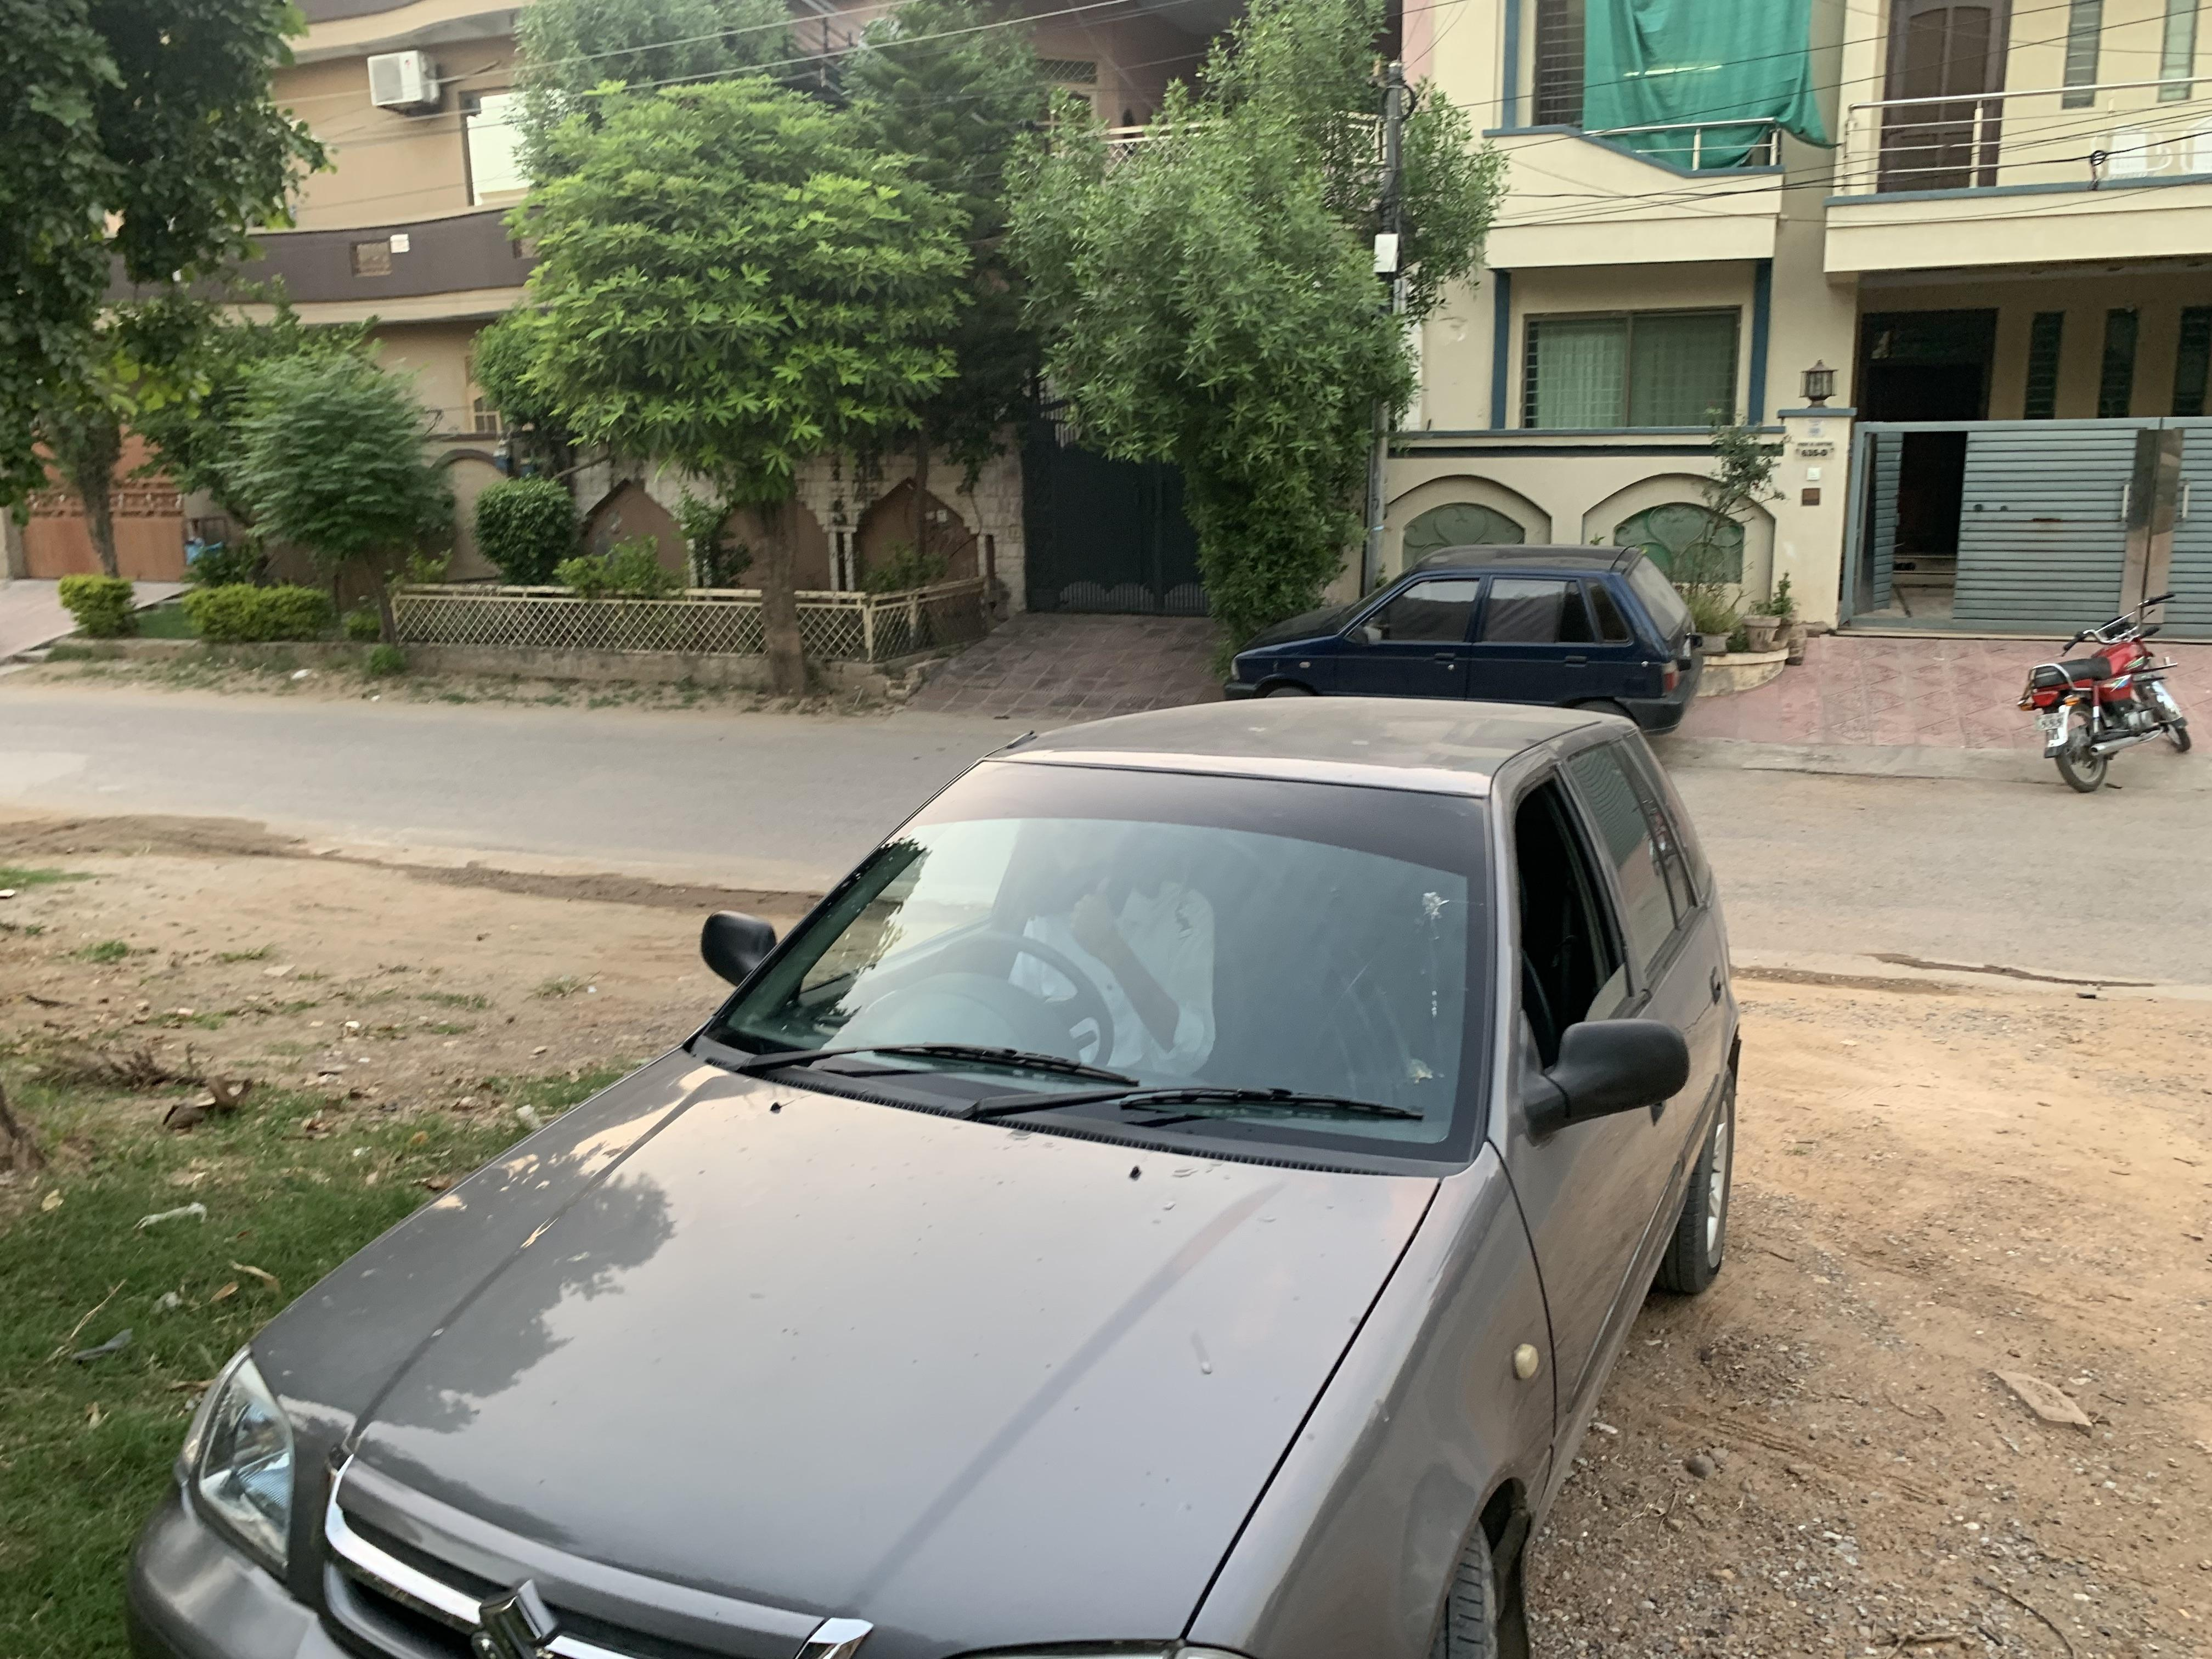windshield: (676, 746, 1521, 1169)
